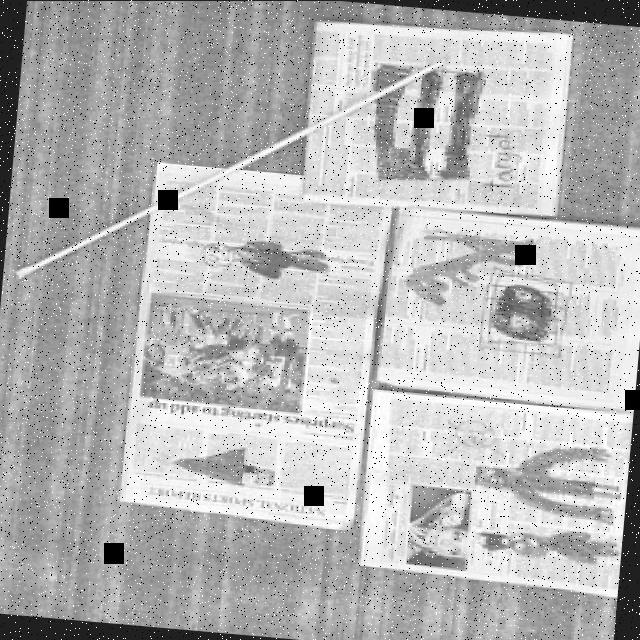reuseable_paper: (360, 213, 640, 594), (121, 175, 386, 522), (293, 9, 572, 227)
